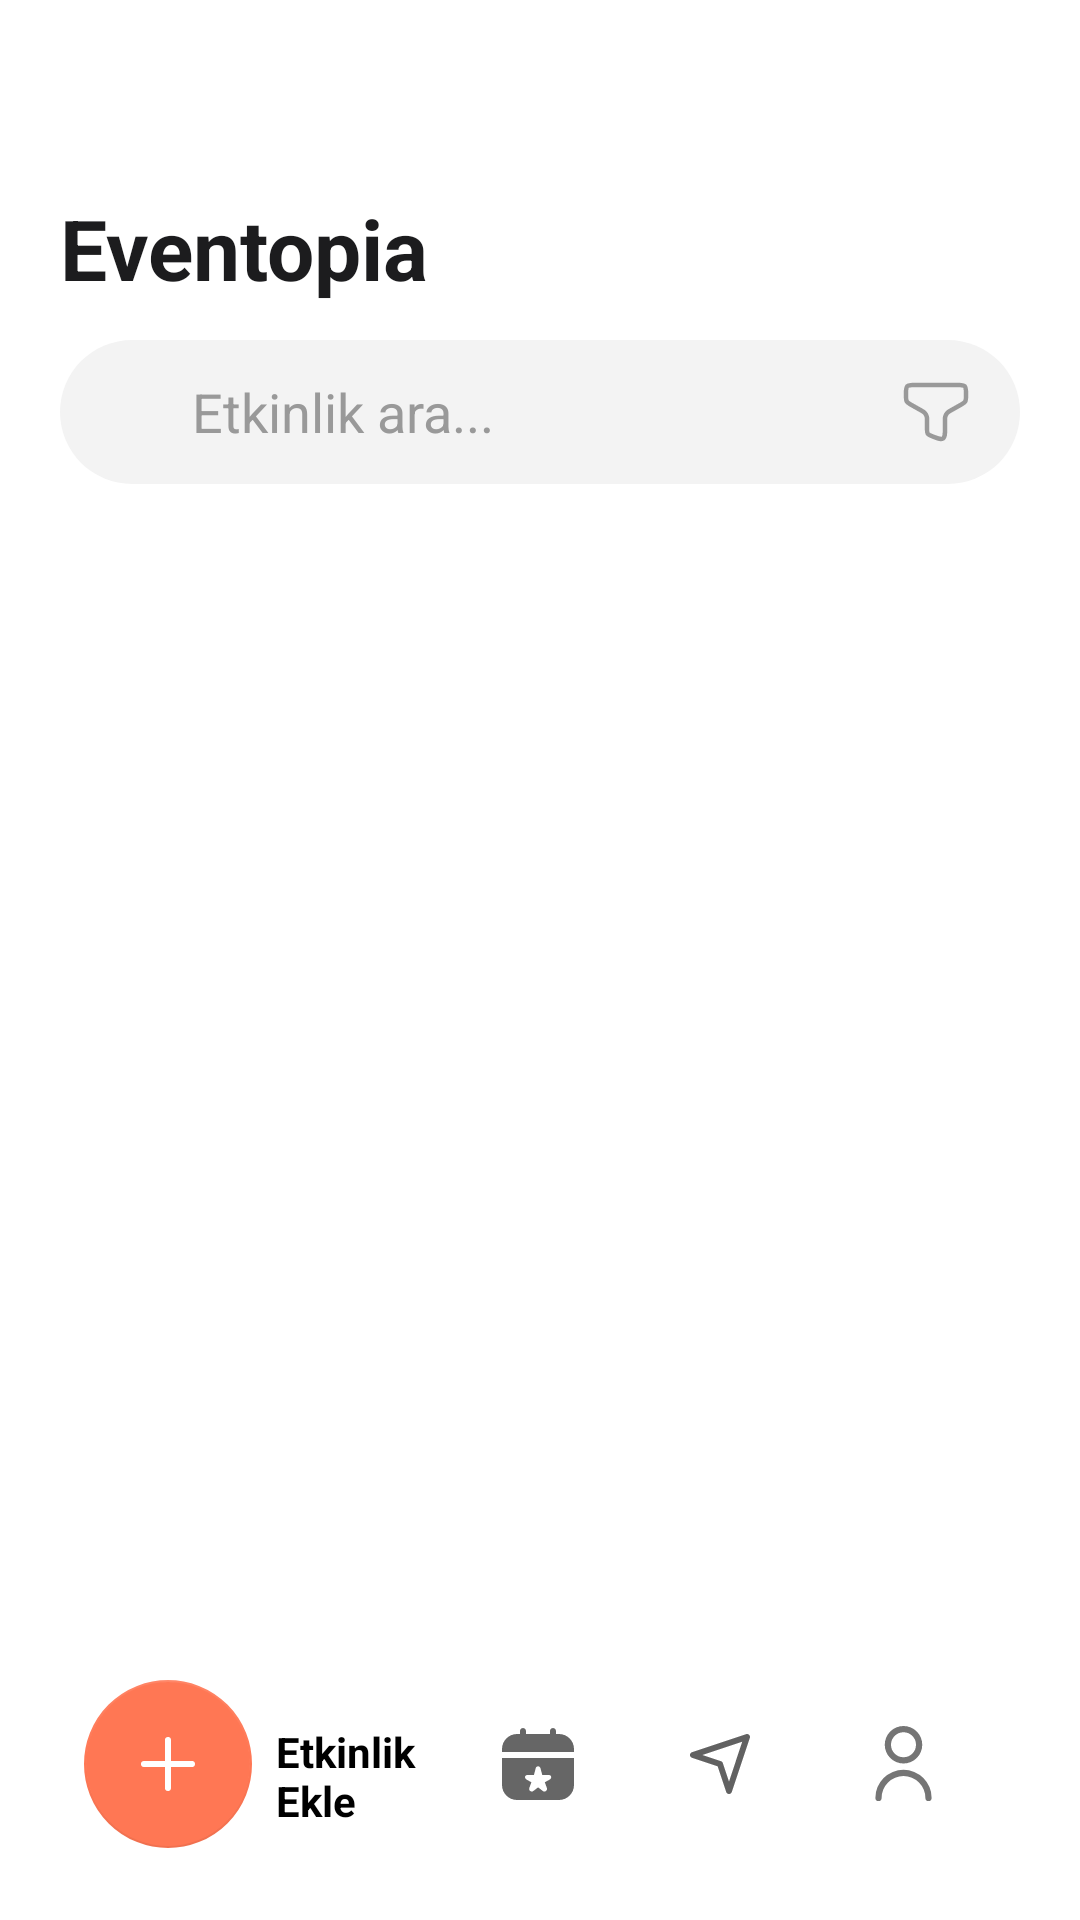

Where icons sit on this 1080 × 1920 app screen, as (x1, y1, x2, y2):
My Events: (502, 1728, 574, 1800)
Nearby Events: (690, 1734, 750, 1794)
Profile: (875, 1726, 932, 1801)
